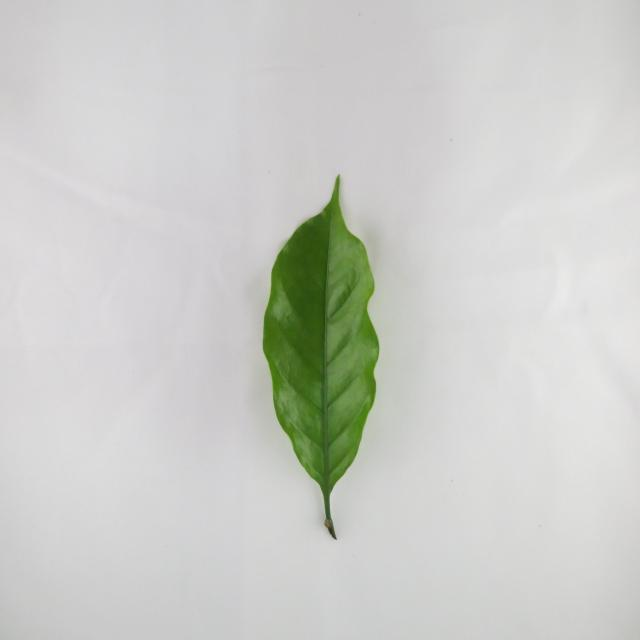DeficienciaNutricional-Calcio: (262, 177, 379, 538)
